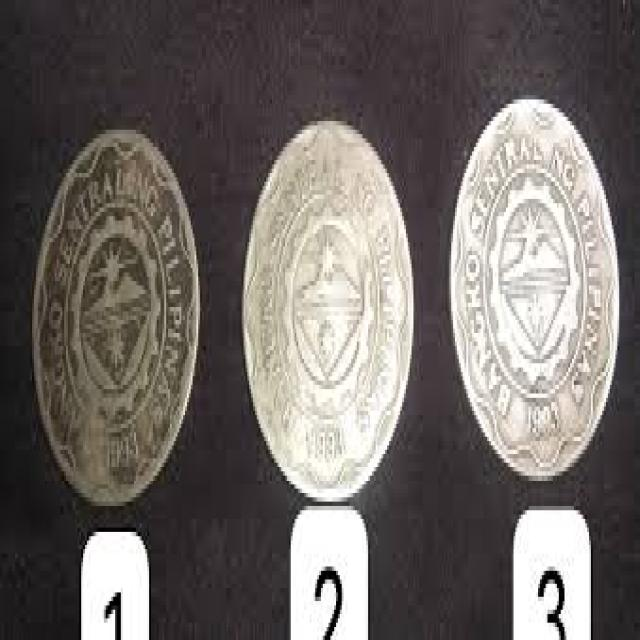5 peso-old: (28, 110, 208, 531), (237, 107, 419, 510), (448, 80, 623, 488)
